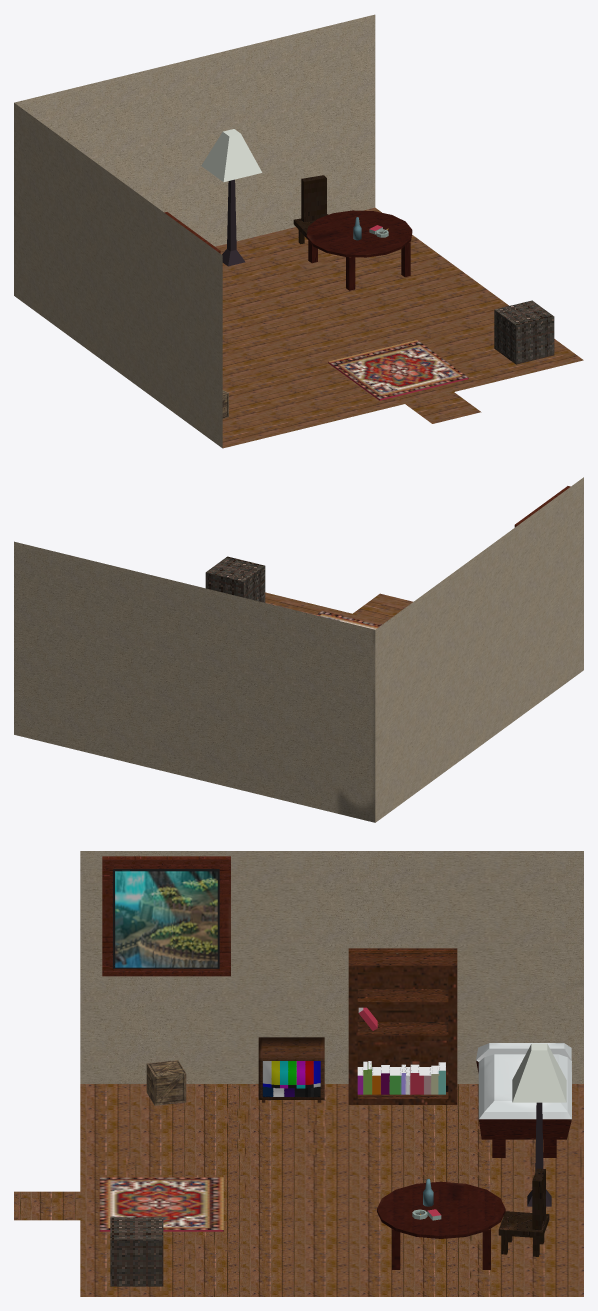
Rendered from house.fbx.
3 renders of one model, top to bottom at view 1: azimuth 30°, elevation 25°; view 2: azimuth 150°, elevation 25°; view 3: azimuth 270°, elevation 25°, orthographic. The views are drawn at different scales.
Visible parts, largest first — view 1: Room, Rug, Table, box3, Lamp, chair; view 2: Room, box3; view 3: Room, PIcture, Bookcase, Bed, Rug, Table, Cube.006, box3, Lamp, Books, chair, box1.
Part boxes in pixels (left/top/right/bottom): Room: left=14, top=14, right=583, bottom=448; Rug: left=328, top=340, right=468, bottom=400; Table: left=306, top=210, right=412, bottom=290; box3: left=494, top=300, right=554, bottom=364; Lamp: left=201, top=129, right=262, bottom=266; chair: left=293, top=175, right=328, bottom=244; Room: left=14, top=477, right=583, bottom=822; box3: left=205, top=556, right=265, bottom=602; Room: left=14, top=851, right=583, bottom=1296; PIcture: left=102, top=856, right=230, bottom=976; Bookcase: left=348, top=948, right=457, bottom=1104; Bed: left=476, top=1043, right=571, bottom=1157; Rug: left=99, top=1177, right=223, bottom=1231; Table: left=377, top=1181, right=505, bottom=1269; Cube.006: left=258, top=1037, right=324, bottom=1102; box3: left=110, top=1217, right=163, bottom=1286; Lamp: left=512, top=1043, right=566, bottom=1206; Books: left=357, top=1061, right=445, bottom=1094; chair: left=498, top=1168, right=549, bottom=1256; box1: left=146, top=1060, right=186, bottom=1105.
Size of the model in its own units: 782 by 407 by 886.
Materials: 15 (15 with a texture image).
